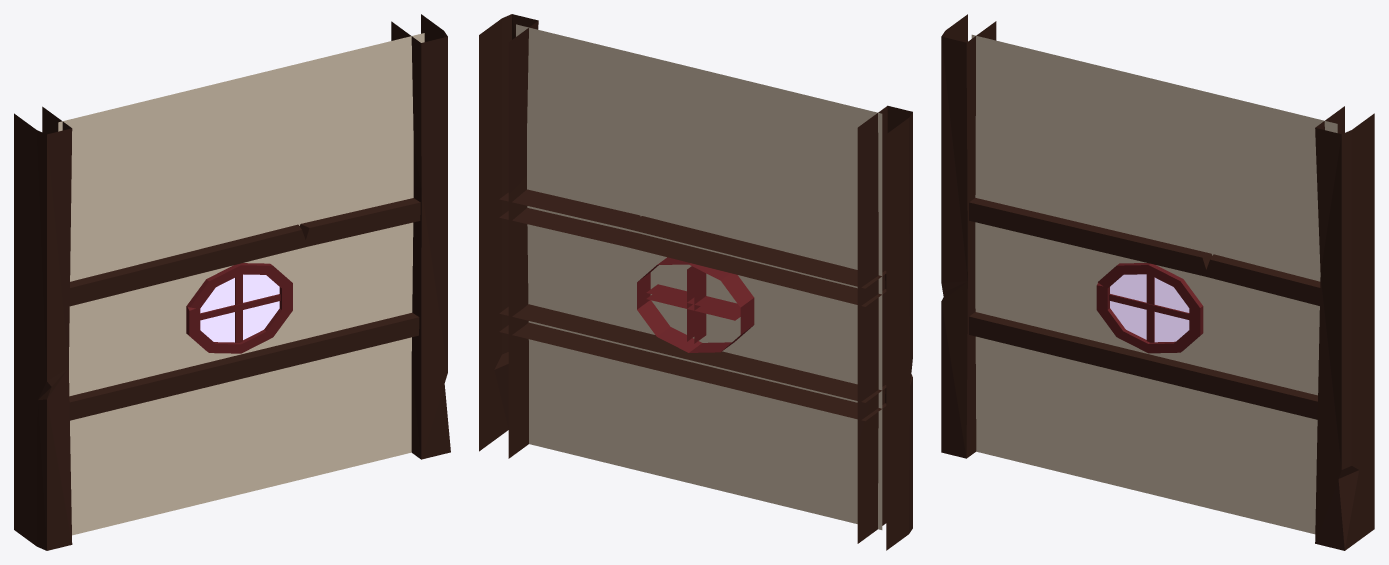
File: BuildingWall_2_2 Asia.fbx
The picture shows the model from 3 angles, left to right: view 1: azimuth 30°, elevation 25°; view 2: azimuth 150°, elevation 25°; view 3: azimuth 330°, elevation 25°; orthographic projection.
Visible parts, largest first — view 1: BuildingWall_2_2; view 2: BuildingWall_2_2; view 3: BuildingWall_2_2.
Part boxes in pixels (bbox=[...]): BuildingWall_2_2: bbox=[14, 14, 450, 550]; BuildingWall_2_2: bbox=[479, 14, 912, 550]; BuildingWall_2_2: bbox=[941, 14, 1374, 550].
Size of the model in its own units: 2 by 1.96 by 0.254.
